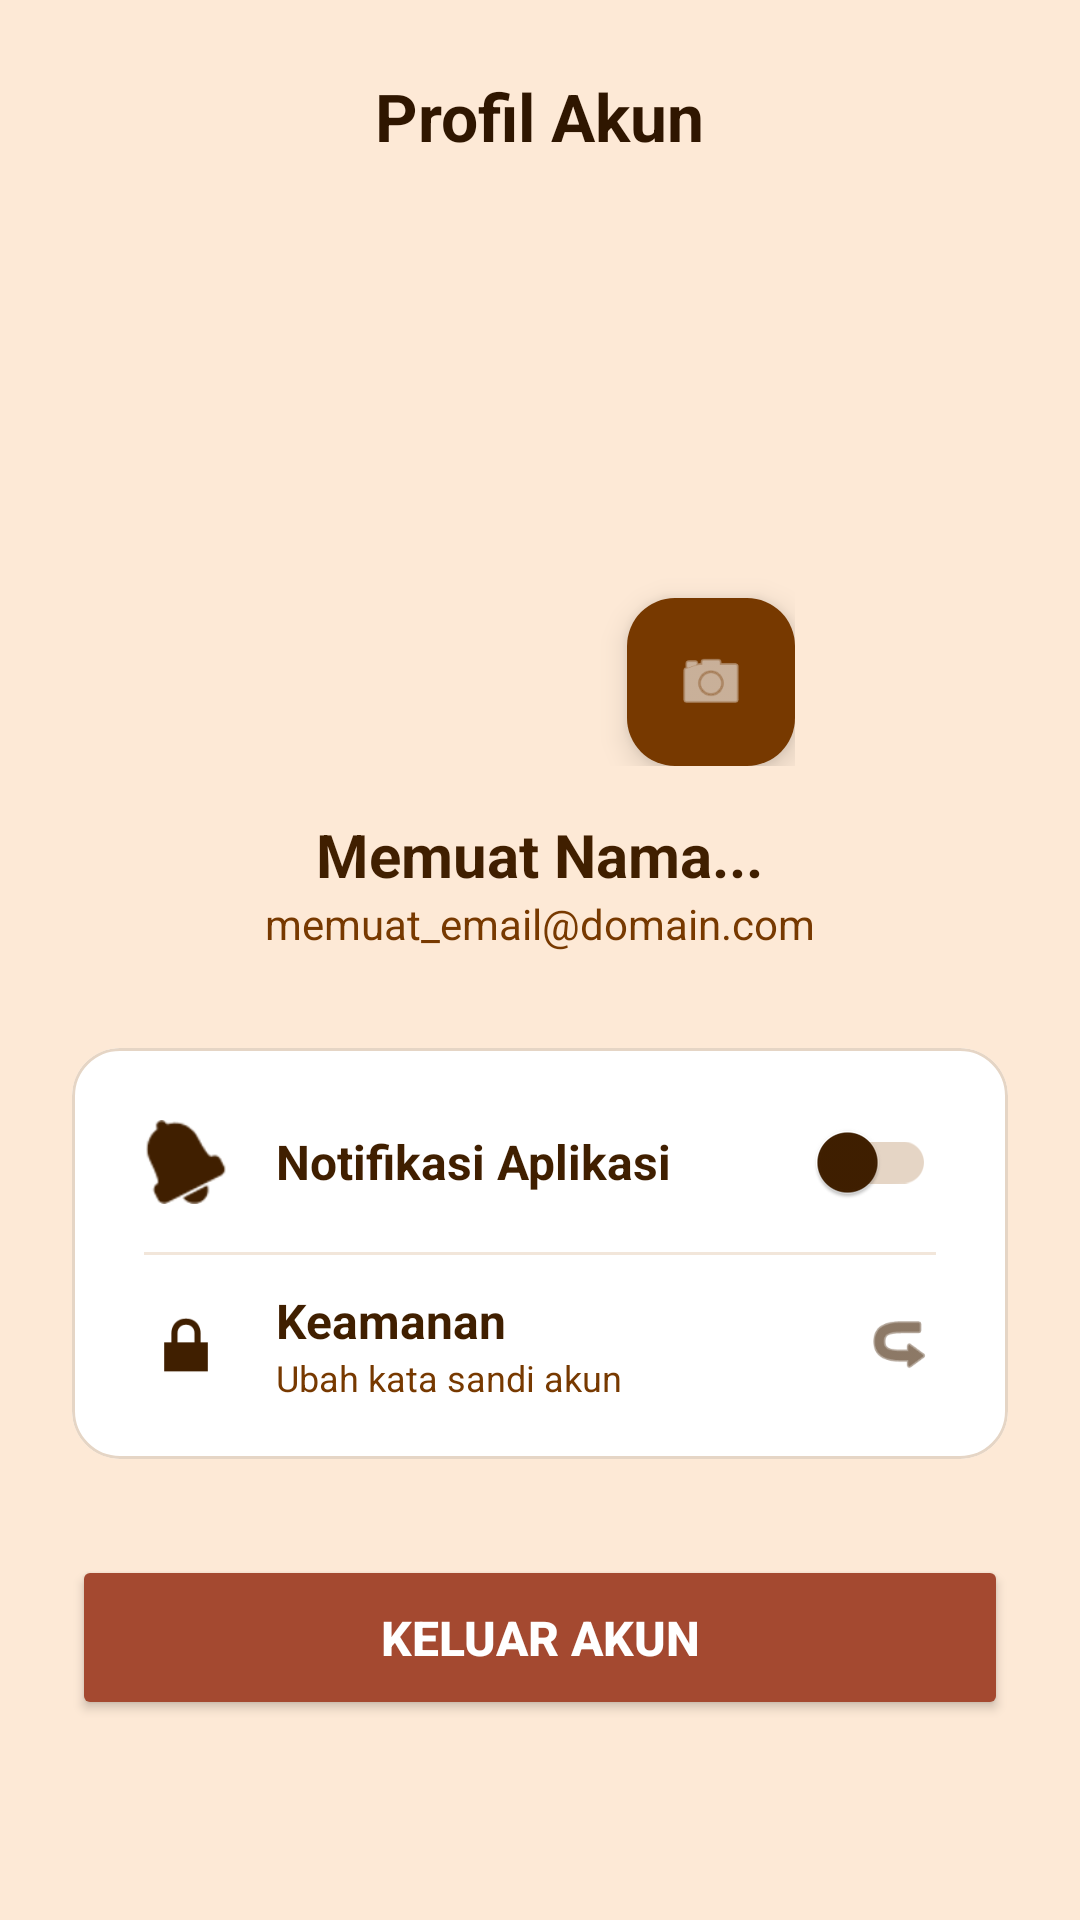

Screen size 1080 × 1920. Icon name, then its box in pixels as (x1, y1, x2, y2):
camera: (627, 598, 795, 766)
lock: (164, 1318, 208, 1372)
popup reminder: (146, 1120, 226, 1204)
